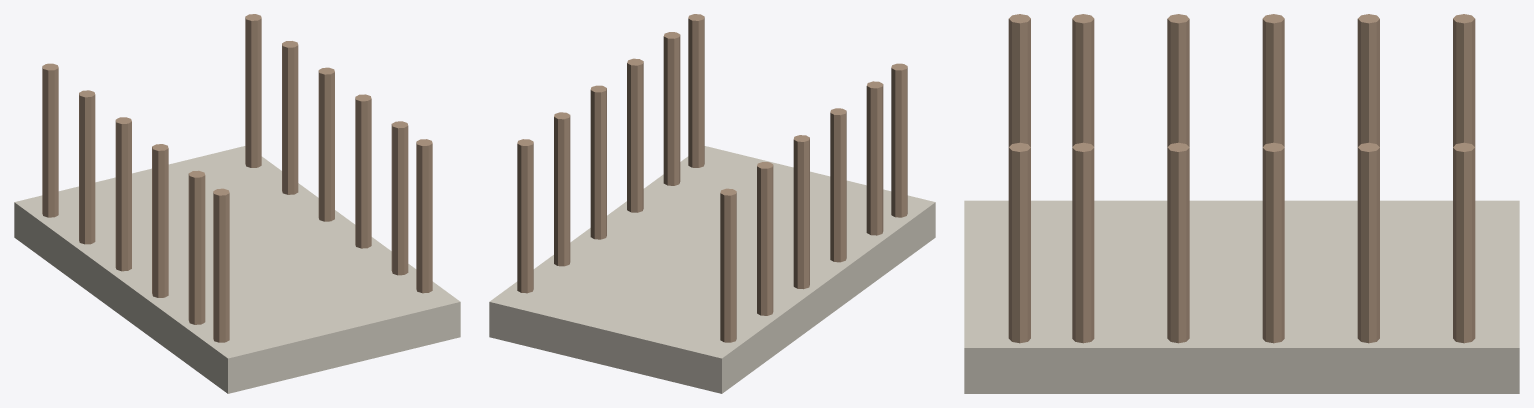
Rendered from crib_basic.glb.
The picture shows the model from 3 angles, left to right: view 1: azimuth 30°, elevation 25°; view 2: azimuth 150°, elevation 25°; view 3: azimuth 270°, elevation 25°; orthographic projection. The views are drawn at different scales.
Parts seen in each view (by area): view 1: part_00, part_11, part_05, part_10, part_01, part_02, part_09, part_06, part_03, part_04, part_12, part_07 (+1 smaller); view 2: part_00, part_05, part_11, part_09, part_08, part_06, part_04, part_01, part_03, part_10, part_07, part_12 (+1 smaller); view 3: part_00, part_07, part_12, part_08, part_09, part_10, part_11, part_04, part_03, part_05, part_02, part_01 (+1 smaller).
Boxes of the visible parts, x1,y1,x2,y2 form: part_00: (14,146,460,393); part_11: (391,121,408,275); part_05: (188,170,205,324); part_10: (355,94,371,248); part_01: (42,63,58,217); part_02: (79,90,95,244); part_09: (318,67,334,221); part_06: (213,188,229,342); part_03: (115,117,131,271); part_04: (152,144,168,297); part_12: (416,139,432,293); part_07: (245,14,261,167); part_00: (489,146,935,393); part_05: (866,81,883,235); part_11: (663,32,680,185); part_09: (590,85,606,239); part_08: (554,112,570,266); part_06: (891,63,907,217); part_04: (830,108,846,262); part_01: (720,188,736,342); part_03: (793,135,809,289); part_10: (627,58,643,212); part_07: (517,139,533,293); part_12: (688,14,704,167); part_00: (964,200,1519,393); part_07: (1453,142,1475,343); part_12: (1008,142,1030,343); part_08: (1357,142,1379,343); part_09: (1262,142,1284,343); part_10: (1167,142,1189,343); part_11: (1072,142,1094,343); part_04: (1167,14,1189,146); part_03: (1262,14,1284,146); part_05: (1072,14,1094,146); part_02: (1357,14,1379,146); part_01: (1453,14,1475,146).
Size of the model in its own units: 1.1 by 0.825 by 1.75.
